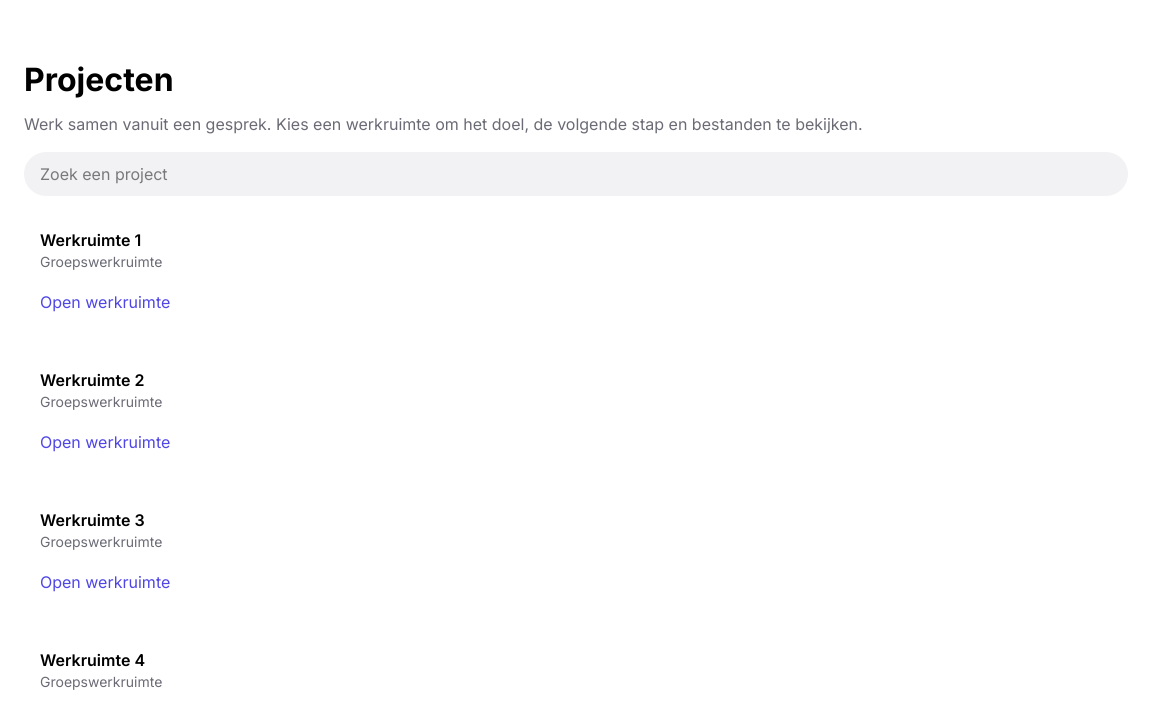
Scenario: toont zes werkruimtes en laat zoeken in de hele lijst
Expected: the text "Werkruimte 1" is shown, [40,230,141,250]
In the search field named "Zoek een werkruimte": (576, 174) [24,152,1128,196], type "Werkruimte 8"
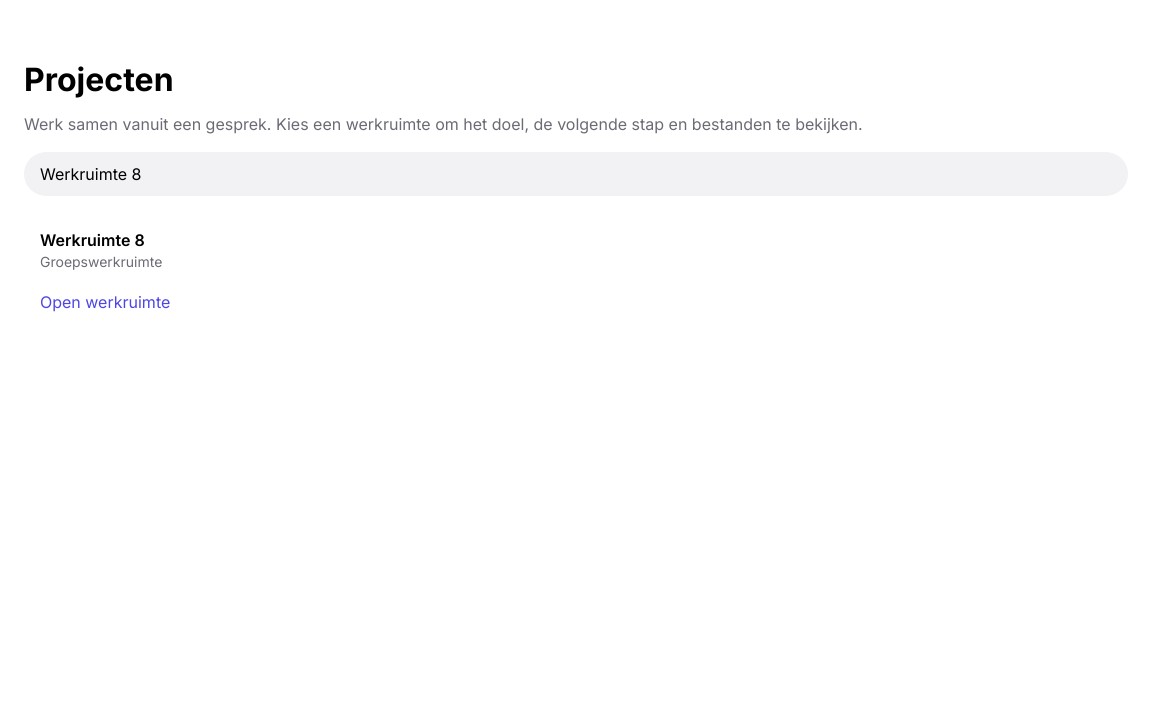
Result: the text "Werkruimte 8" is shown at [40,230,145,250]
Result: the number of buttons "Open werkruimte" is 1 at [40,280,170,324]
